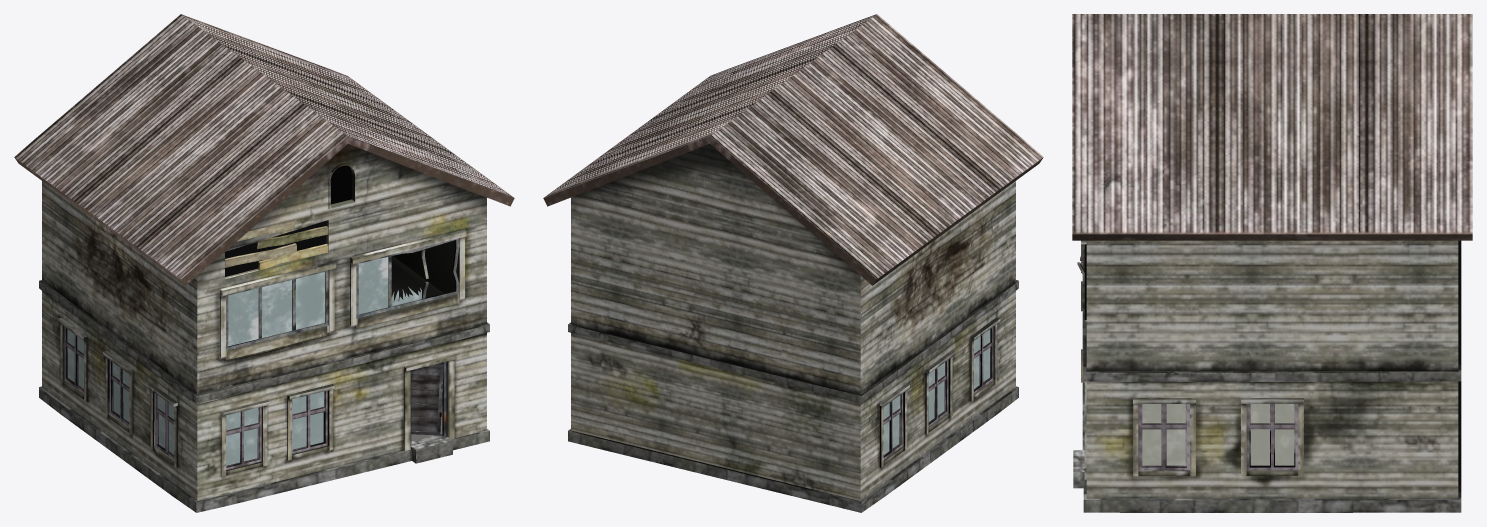
The model's file is cabaña abandonada.fbx.
3 views of the same model, side by side, from view 1: azimuth 30°, elevation 25°; view 2: azimuth 150°, elevation 25°; view 3: azimuth 270°, elevation 25° (orthographic). The views are drawn at different scales.
Visible parts, largest first — view 1: Object001; view 2: Object001; view 3: Object001.
Part boxes in pixels (bbox=[...]): Object001: bbox=[14, 14, 514, 512]; Object001: bbox=[543, 14, 1043, 512]; Object001: bbox=[1072, 14, 1472, 512].
Size of the model in its own units: 80.63 by 79.57 by 70.
Materials: 1 (1 with a texture image).
